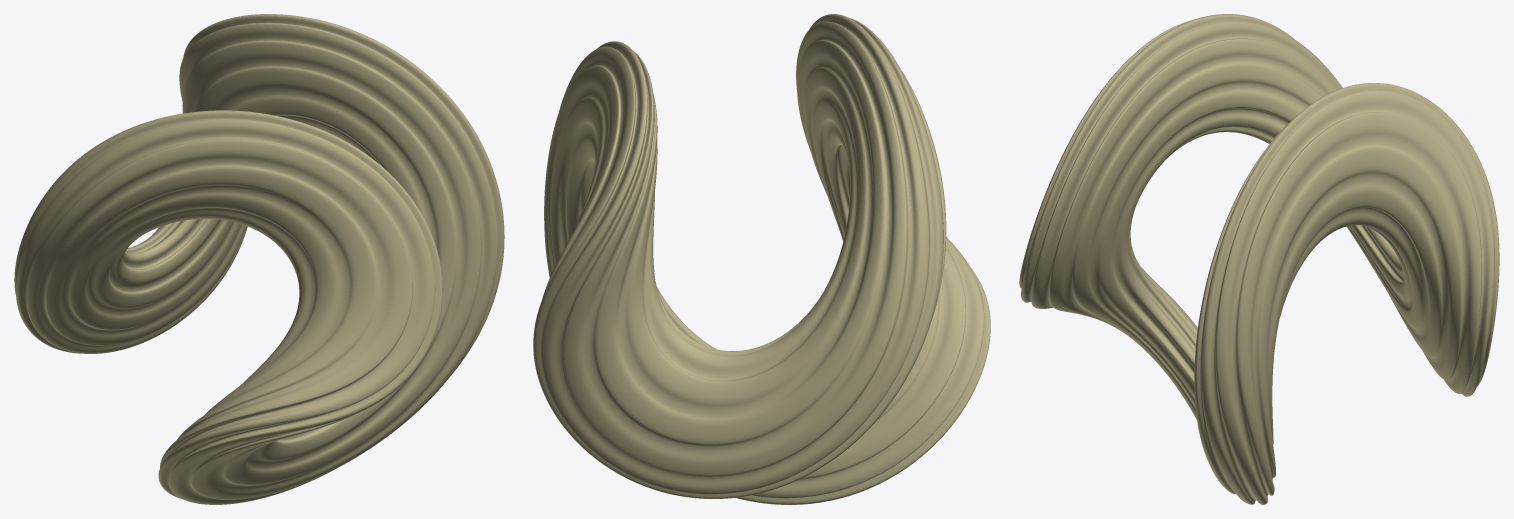
3 views of the same model, side by side, from view 1: azimuth 30°, elevation 25°; view 2: azimuth 150°, elevation 25°; view 3: azimuth 270°, elevation 25° (orthographic). The views are drawn at different scales.
Visible parts, largest first — view 1: Torus.006; view 2: Torus.006; view 3: Torus.006.
Boxes of the visible parts, x1=… form: Torus.006: x1=14, y1=14, x2=504, y2=504; Torus.006: x1=533, y1=14, x2=990, y2=504; Torus.006: x1=1019, y1=14, x2=1499, y2=504.
Size of the model in its own units: 2.7 by 2.64 by 2.7.
